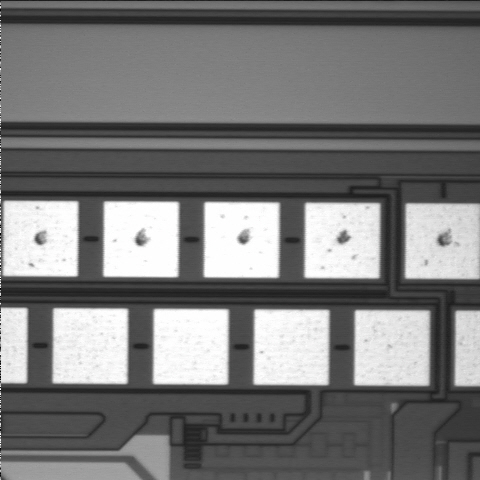pad: (103, 201, 179, 277), (204, 202, 280, 278), (153, 309, 229, 385), (354, 310, 430, 386), (3, 201, 78, 277), (304, 203, 380, 278), (53, 308, 128, 384), (254, 309, 329, 385)
